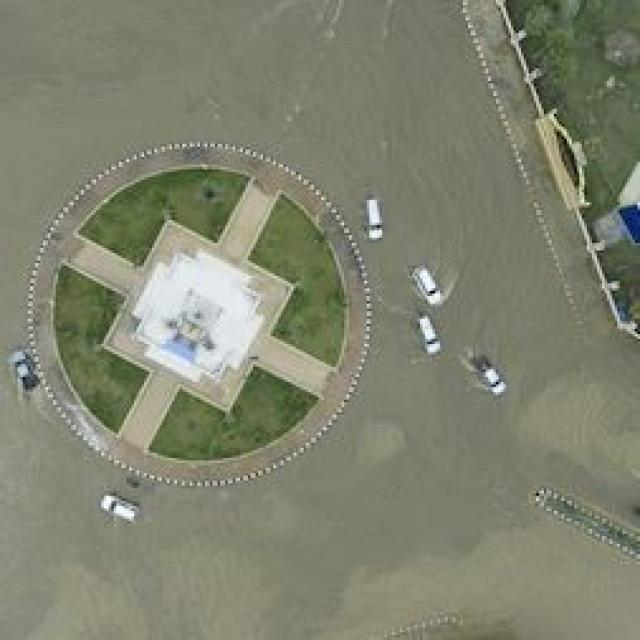flooded_areas: (0, 12, 572, 638)
